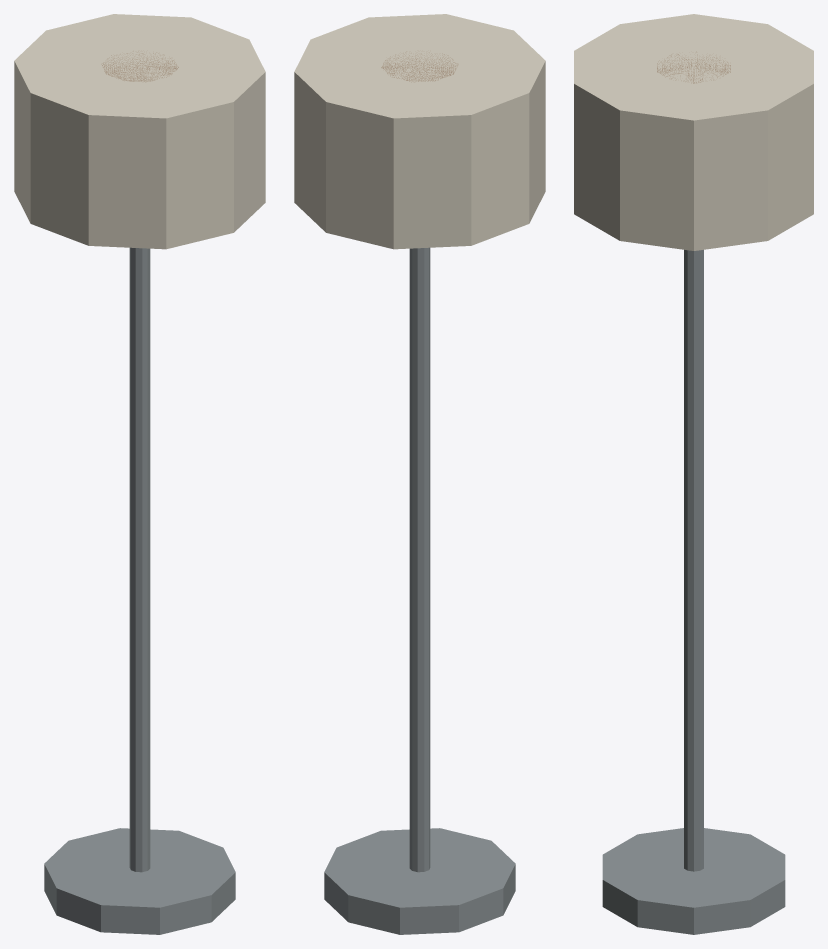
The model's file is reading-lamp.glb.
The picture shows the model from 3 angles, left to right: view 1: azimuth 30°, elevation 25°; view 2: azimuth 150°, elevation 25°; view 3: azimuth 270°, elevation 25°; orthographic projection.
Visible parts, largest first — view 1: Reading Lamp; view 2: Reading Lamp; view 3: Reading Lamp.
Part boxes in pixels (x1,y1,x2,y2): Reading Lamp: [14, 14, 265, 934]; Reading Lamp: [294, 14, 545, 934]; Reading Lamp: [574, 14, 813, 934].
Bounding box in the file's own units: 0.42 × 1.52 × 0.3994.
